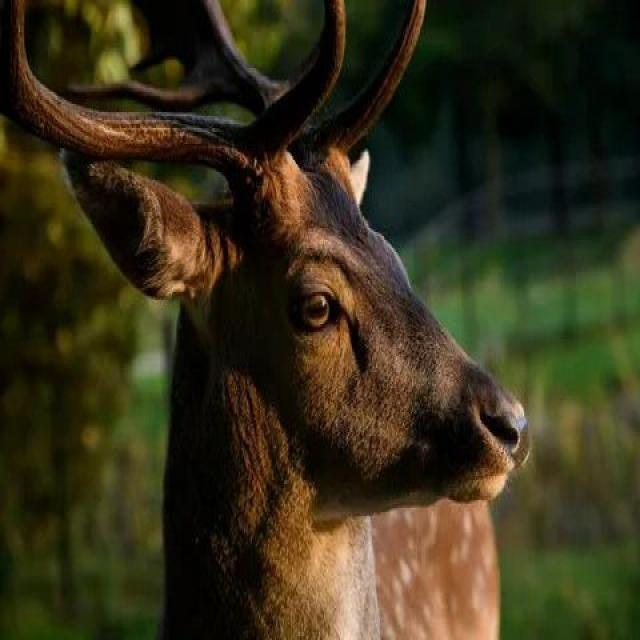deer: (52, 15, 522, 588)
